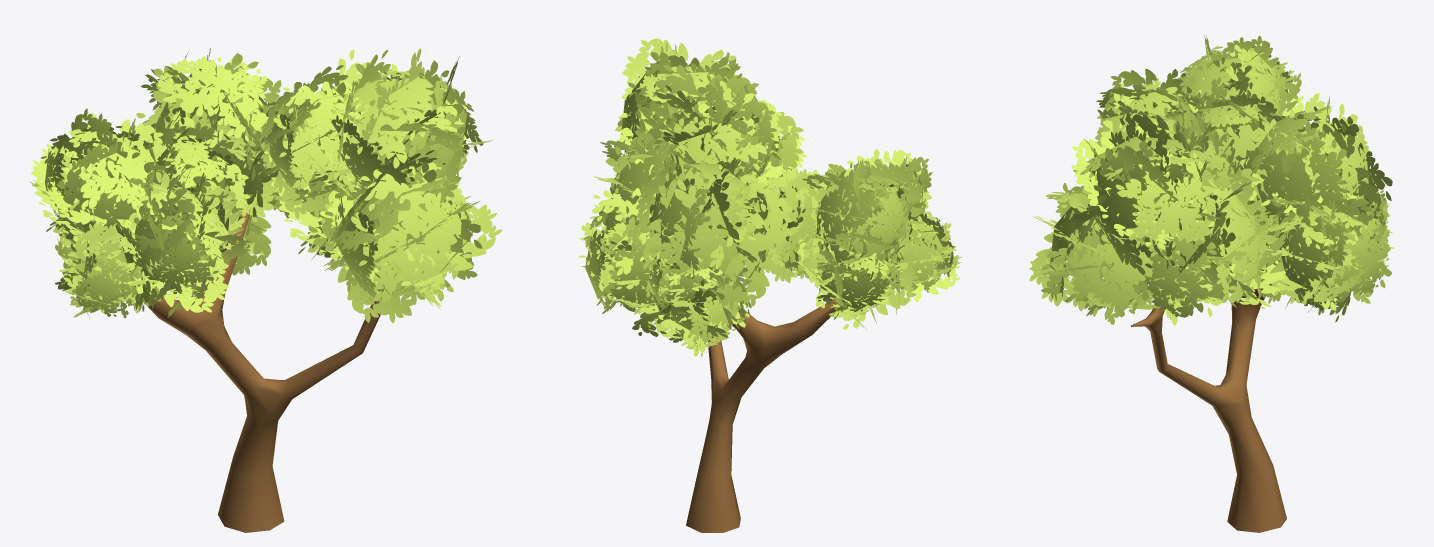
Rendered from Tree33.fbx.
The picture shows the model from 3 angles, left to right: view 1: azimuth 30°, elevation 25°; view 2: azimuth 150°, elevation 25°; view 3: azimuth 270°, elevation 25°; orthographic projection. The views are drawn at different scales.
Visible parts, largest first — view 1: Plane.005, Cube.012; view 2: Plane.005, Cube.012; view 3: Plane.005, Cube.012.
Boxes of the visible parts, x1,y1,x2,y2 form: Plane.005: (29,48,502,323); Cube.012: (147,193,392,532); Plane.005: (579,38,961,357); Cube.012: (686,299,842,532); Plane.005: (1029,35,1393,325); Cube.012: (1131,243,1286,532).
Size of the model in its own units: 8.97 by 9.59 by 7.85.
